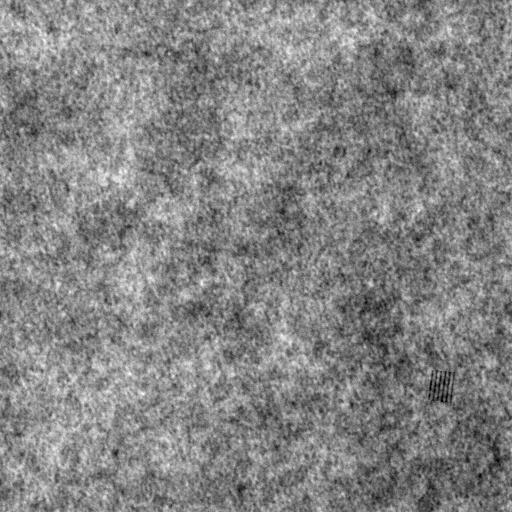DefectTypeB: (428, 367, 453, 404)
